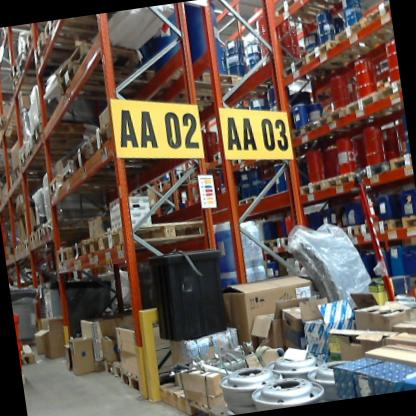pallet: (156, 50, 266, 120), (46, 30, 161, 86), (57, 51, 166, 109), (70, 126, 183, 179), (97, 209, 213, 253), (85, 114, 175, 167), (60, 150, 164, 192), (121, 359, 197, 404), (301, 29, 372, 77), (15, 140, 85, 182), (332, 10, 394, 57), (33, 27, 96, 73), (268, 0, 342, 39), (42, 165, 128, 198), (4, 28, 43, 88), (281, 51, 338, 91), (28, 113, 99, 145), (39, 12, 112, 42), (25, 130, 91, 163), (315, 99, 372, 137), (39, 209, 103, 242), (341, 86, 384, 125), (290, 113, 347, 142), (11, 158, 65, 186), (183, 390, 240, 416), (362, 0, 394, 46), (319, 161, 357, 192), (299, 0, 367, 15), (18, 330, 41, 374), (81, 226, 109, 262), (376, 75, 403, 110), (351, 158, 389, 182), (100, 355, 130, 383), (0, 108, 29, 136), (297, 172, 327, 199), (366, 216, 403, 237), (384, 150, 411, 174), (260, 233, 286, 254), (51, 245, 76, 266), (338, 223, 363, 243), (238, 188, 264, 205), (277, 230, 303, 246), (2, 66, 21, 87), (399, 211, 416, 233), (356, 218, 373, 240), (72, 242, 86, 261), (34, 223, 46, 242), (22, 235, 33, 253), (12, 244, 25, 258), (30, 229, 39, 247), (409, 274, 416, 293)
small_load_carrier: (14, 310, 28, 349), (18, 340, 30, 374)
